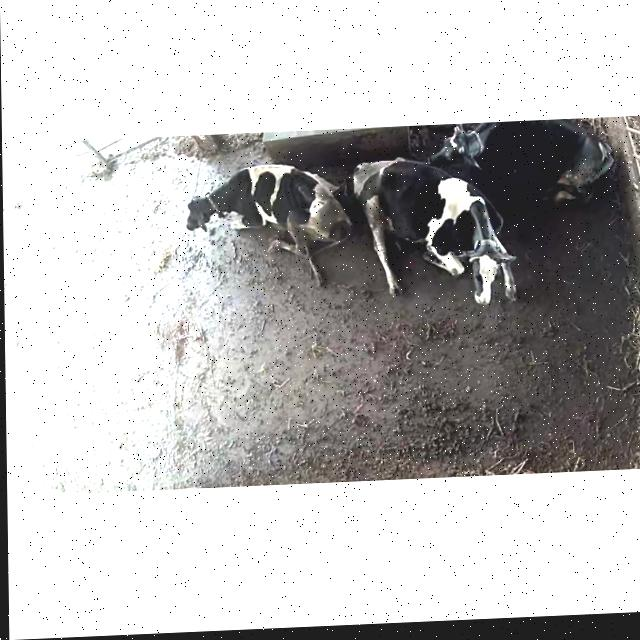lay: (357, 150, 519, 314), (177, 153, 354, 291), (426, 116, 619, 196)
